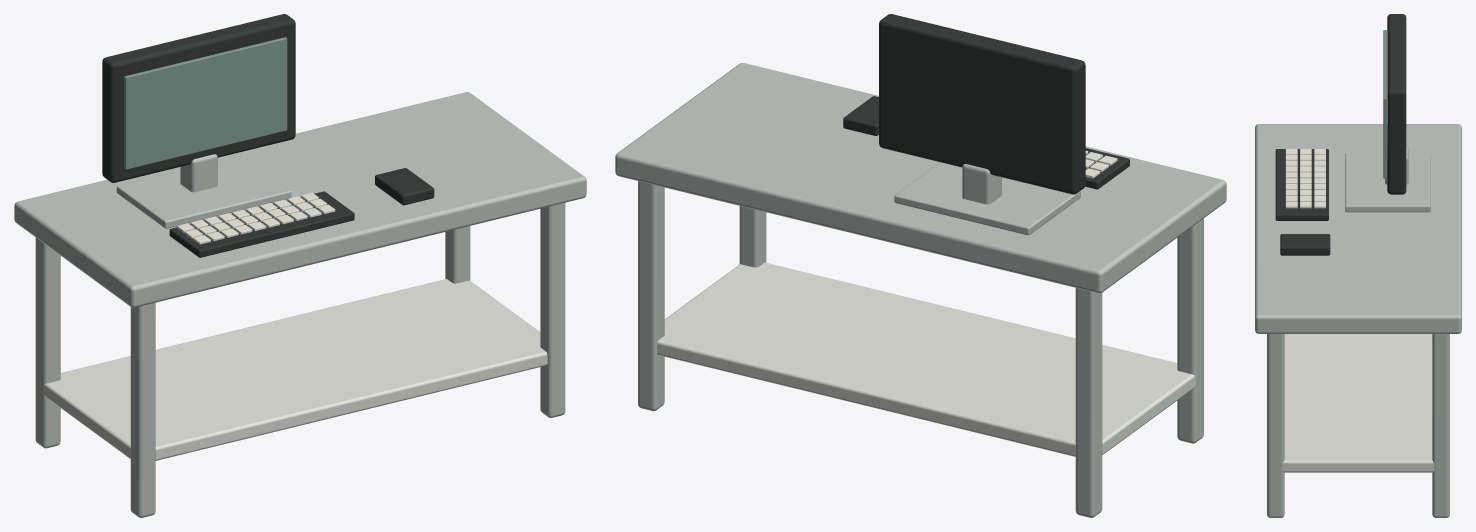
The model's file is spacecraft-thermal-test-chamber-test-operator-console-432f3cd4__32058.glb.
The picture shows the model from 3 angles, left to right: view 1: azimuth 30°, elevation 25°; view 2: azimuth 150°, elevation 25°; view 3: azimuth 270°, elevation 25°; orthographic projection. The views are drawn at different scales.
Parts seen in each view (by area): view 1: test-operator-console; view 2: test-operator-console; view 3: test-operator-console.
Part boxes in pixels (x1=…): test-operator-console: x1=14, y1=14, x2=586, y2=517; test-operator-console: x1=615, y1=14, x2=1226, y2=517; test-operator-console: x1=1255, y1=14, x2=1461, y2=517.
Bounding box in the file's own units: 1.55 × 1.28 × 0.7.
